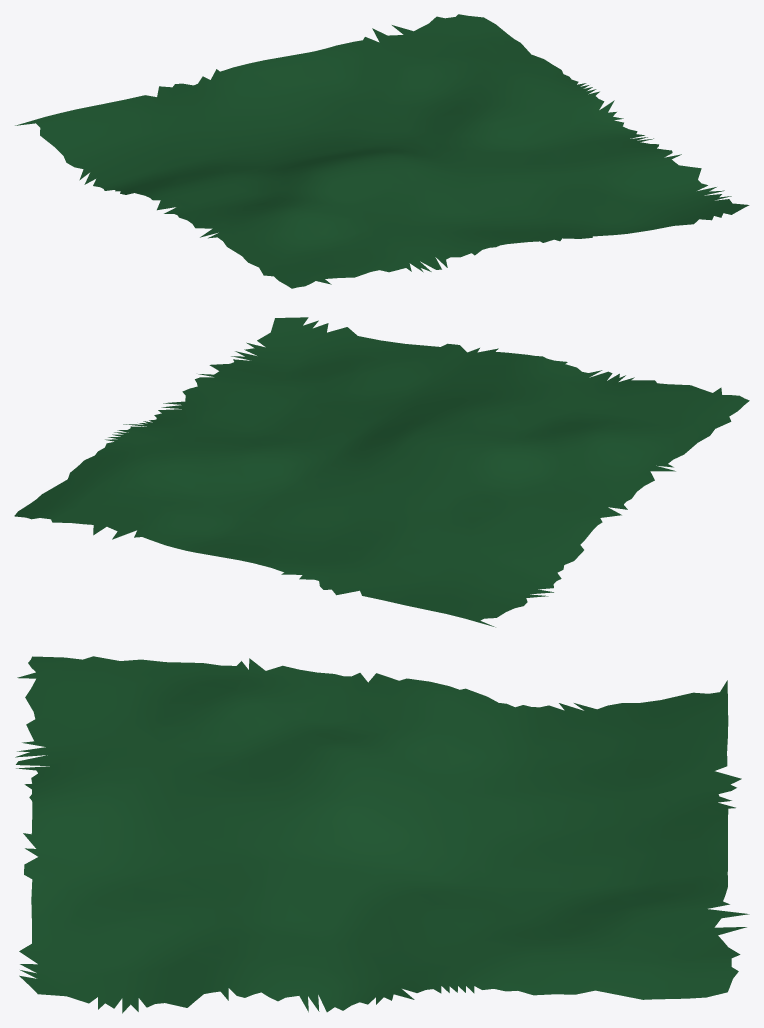
Rendered from payo_land_xm4_ym3_lod1.glb.
The picture shows the model from 3 angles, top to bottom: view 1: azimuth 30°, elevation 25°; view 2: azimuth 150°, elevation 25°; view 3: azimuth 270°, elevation 25°; orthographic projection. The views are drawn at different scales.
Visible parts, largest first — view 1: payo_land_xm4_ym3; view 2: payo_land_xm4_ym3; view 3: payo_land_xm4_ym3.
Part boxes in pixels (<box>): payo_land_xm4_ym3: <box>15,14,749,288</box>; payo_land_xm4_ym3: <box>14,317,749,627</box>; payo_land_xm4_ym3: <box>15,656,749,1013</box>.
Size of the model in its own units: 272 by 23.98 by 270.
